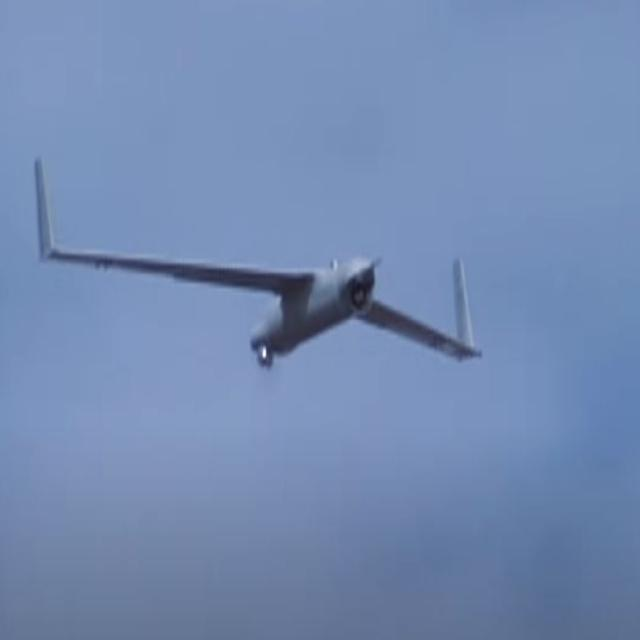iha: (32, 141, 484, 381)
